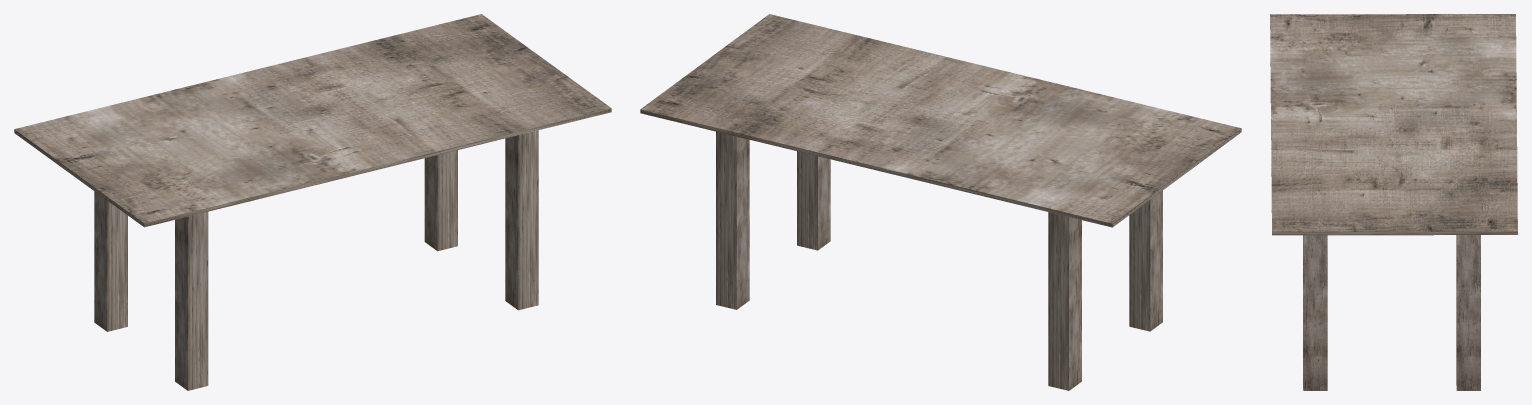
Rendered from Table2.FBX.
The picture shows the model from 3 angles, left to right: view 1: azimuth 30°, elevation 25°; view 2: azimuth 150°, elevation 25°; view 3: azimuth 270°, elevation 25°; orthographic projection. The views are drawn at different scales.
Visible parts, largest first — view 1: lv2_map:polySurface473, Object002, Object001, Object004, Object003; view 2: lv2_map:polySurface473, Object004, Object003, Object001, Object002; view 3: lv2_map:polySurface473, Object002, Object003.
Boxes of the visible parts, x1,y1,x2,y2 form: lv2_map:polySurface473: (14,14,611,227); Object002: (505,130,538,310); Object001: (175,212,208,390); Object004: (94,191,127,331); Object003: (424,150,457,251); lv2_map:polySurface473: (640,14,1241,227); Object004: (1048,212,1081,390); Object003: (716,131,749,309); Object001: (1129,190,1162,331); Object002: (797,151,830,250); lv2_map:polySurface473: (1270,14,1517,235); Object002: (1303,235,1327,390); Object003: (1456,235,1480,390).
Bounding box in the file's own units: 58.16 × 23.1 × 27.96.
Materials: 1 (1 with a texture image).
